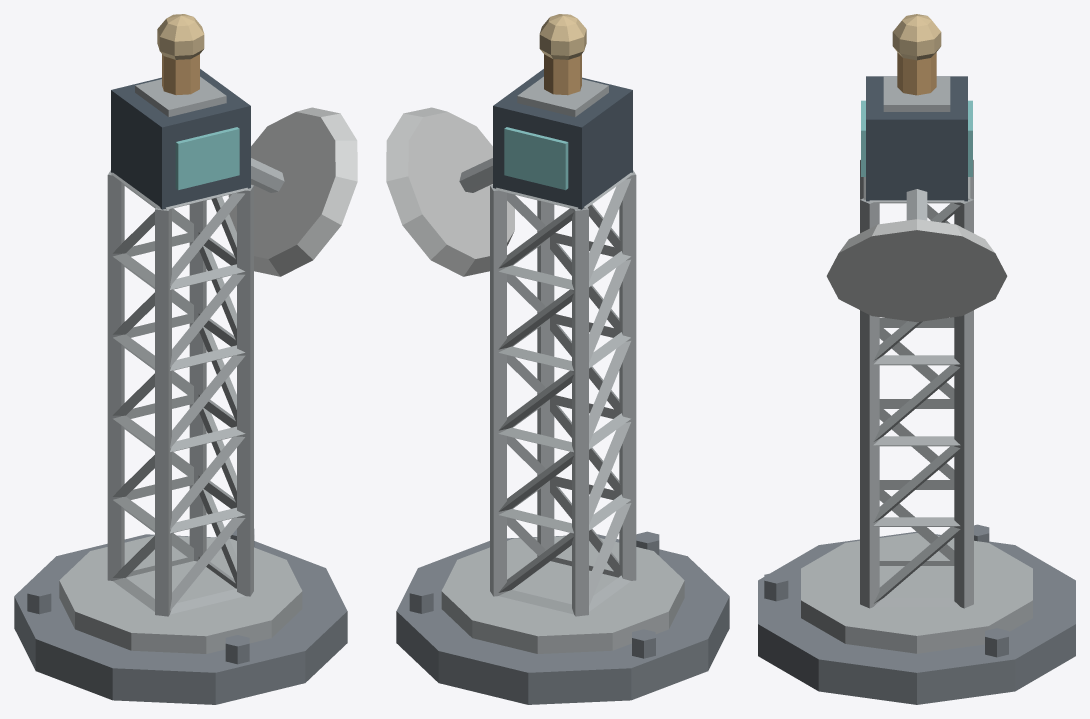
The picture shows the model from 3 angles, left to right: view 1: azimuth 30°, elevation 25°; view 2: azimuth 150°, elevation 25°; view 3: azimuth 270°, elevation 25°; orthographic projection.
Visible parts, largest first — view 1: sea_sensor_tower; view 2: sea_sensor_tower; view 3: sea_sensor_tower.
Boxes of the visible parts, x1,y1,x2,y2 form: sea_sensor_tower: [14, 14, 357, 704]; sea_sensor_tower: [386, 14, 729, 704]; sea_sensor_tower: [758, 14, 1075, 704].
Bounding box in the file's own units: 1.79 × 3.47 × 1.62.
